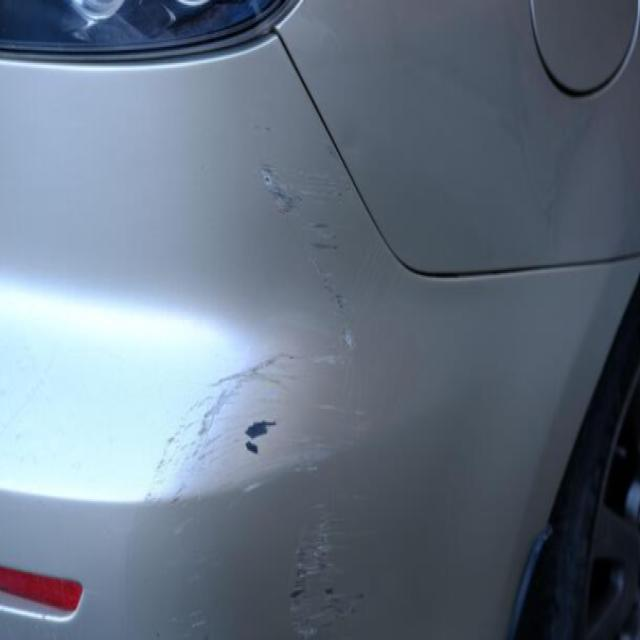scratch: (133, 148, 403, 636)
